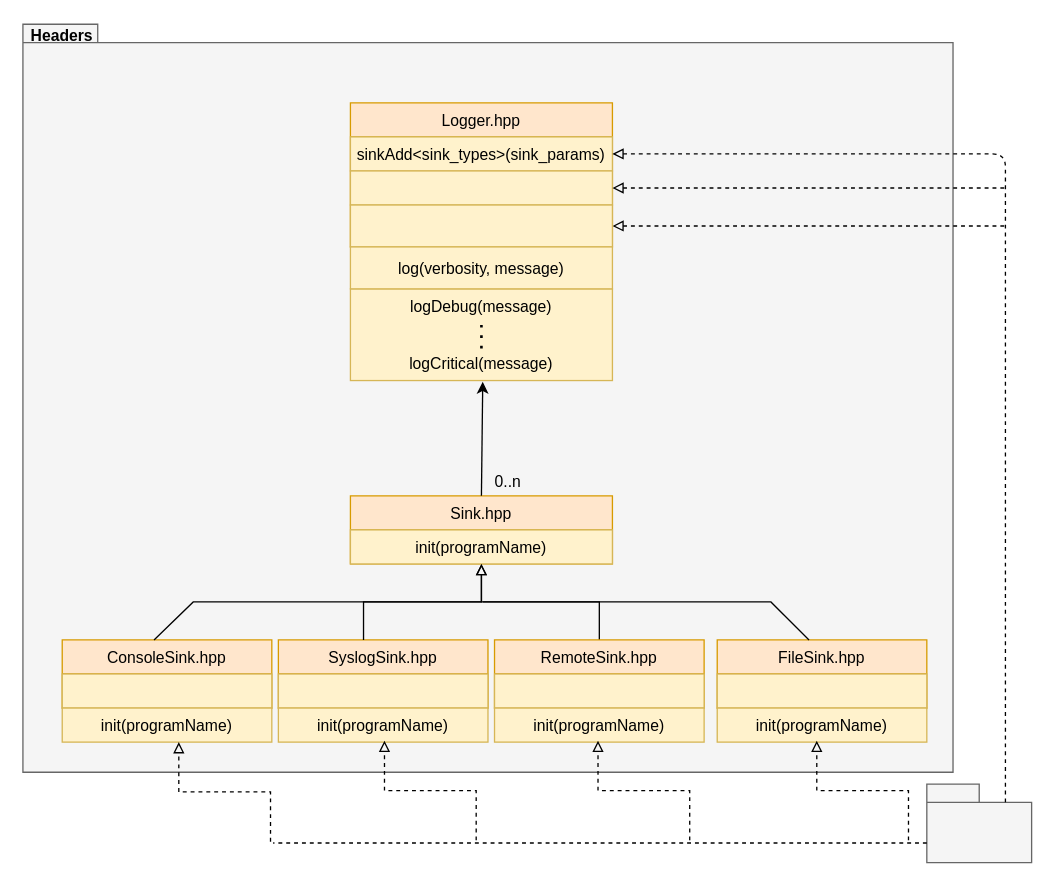
Image size: 1055x886. Some labels were removed from this diagram. The shapes that lost their labels are listed below. From the top down, each one's centre as x and y in pixels, then its label:
At point (480, 187): "init(logger_settings)".
At point (480, 225): "destroy()".
At point (166, 690): "ConsoleSink(params)".
At point (382, 690): "SyslogSink(params)".
At point (598, 690): "RemoteSink(params)".
At point (821, 690): "FileSink(params)".
At point (979, 823): ".so".
